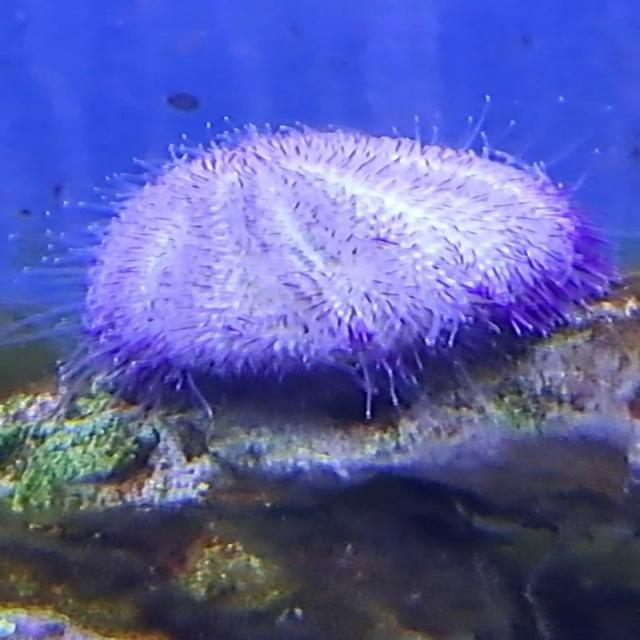Deniz Kestanesi: (30, 115, 626, 411)
